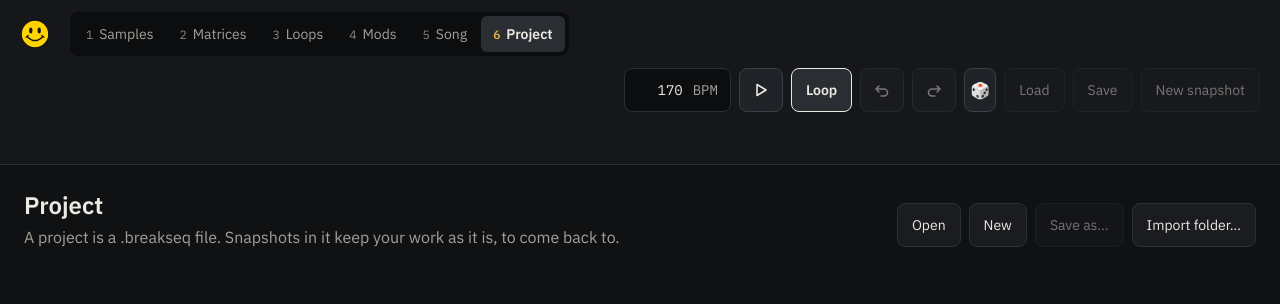
Test: projects as .breakseq files in the plugin › a file that is not a project says so
The width and height of the screenshot is (1280, 304).
Click the button "Open": (929, 225) [897,203,961,247]
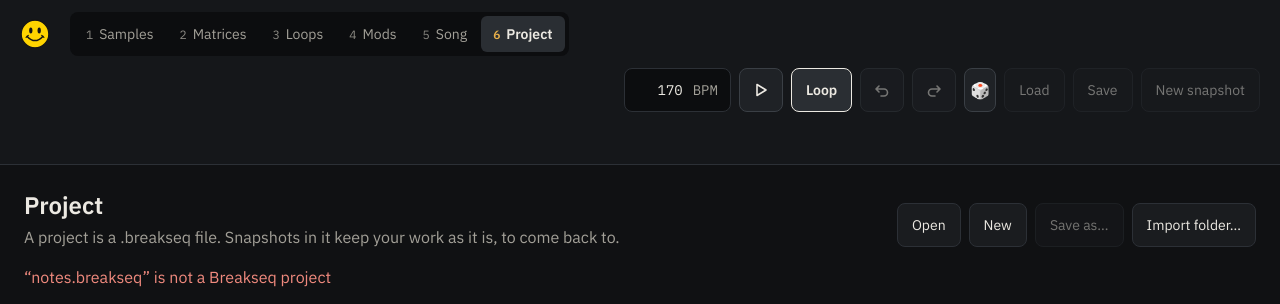
Result: the message reads "“notes.breakseq” is not a Breakseq project" at [24,267,331,287]
